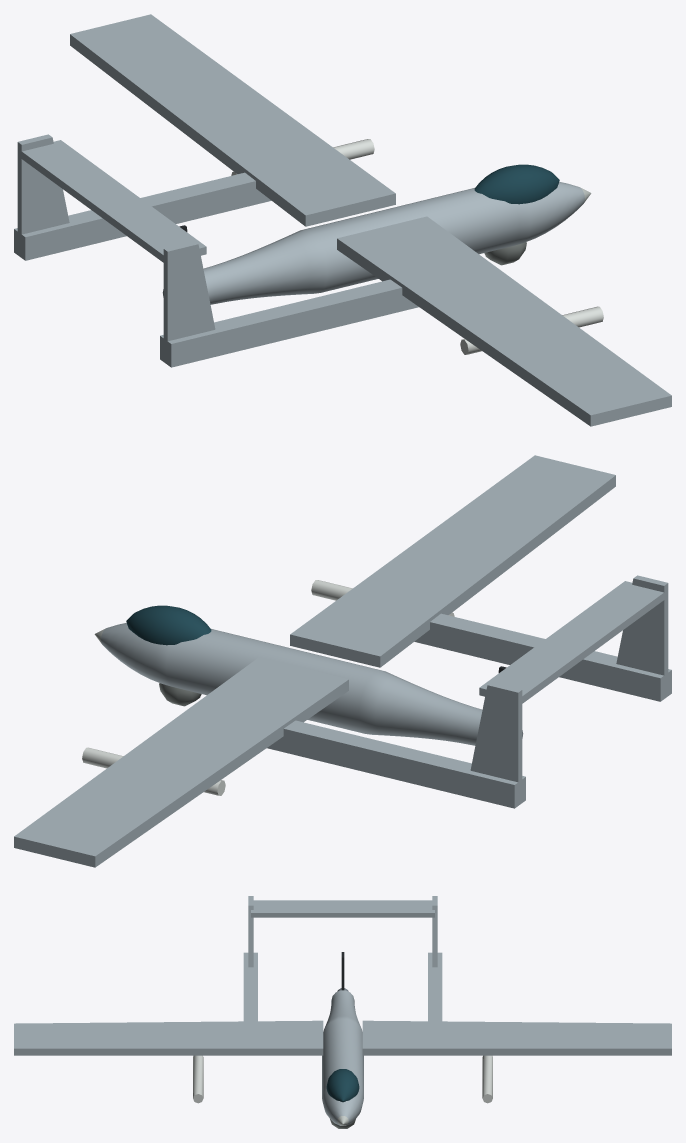
Rendered from irn_uav_mohajer6.glb.
3 views of the same model, one above another, from view 1: azimuth 30°, elevation 25°; view 2: azimuth 150°, elevation 25°; view 3: azimuth 270°, elevation 25° (orthographic). The views are drawn at different scales.
Parts seen in each view (by area): view 1: naval_paint, glazing, missile_body; view 2: naval_paint, glazing, missile_body; view 3: naval_paint, missile_body, glazing.
Boxes of the visible parts, x1=… form: naval_paint: x1=14, y1=14, x2=671, y2=426; glazing: x1=474, y1=164, x2=559, y2=204; missile_body: x1=231, y1=139, x2=603, y2=354; naval_paint: x1=14, y1=455, x2=671, y2=867; glazing: x1=126, y1=605, x2=211, y2=645; missile_body: x1=82, y1=580, x2=454, y2=795; naval_paint: x1=14, y1=896, x2=671, y2=1125; missile_body: x1=193, y1=1055, x2=492, y2=1103; glazing: x1=326, y1=1069, x2=359, y2=1102.
Bounding box in the file's own units: 5.53 × 1.95 × 10.
